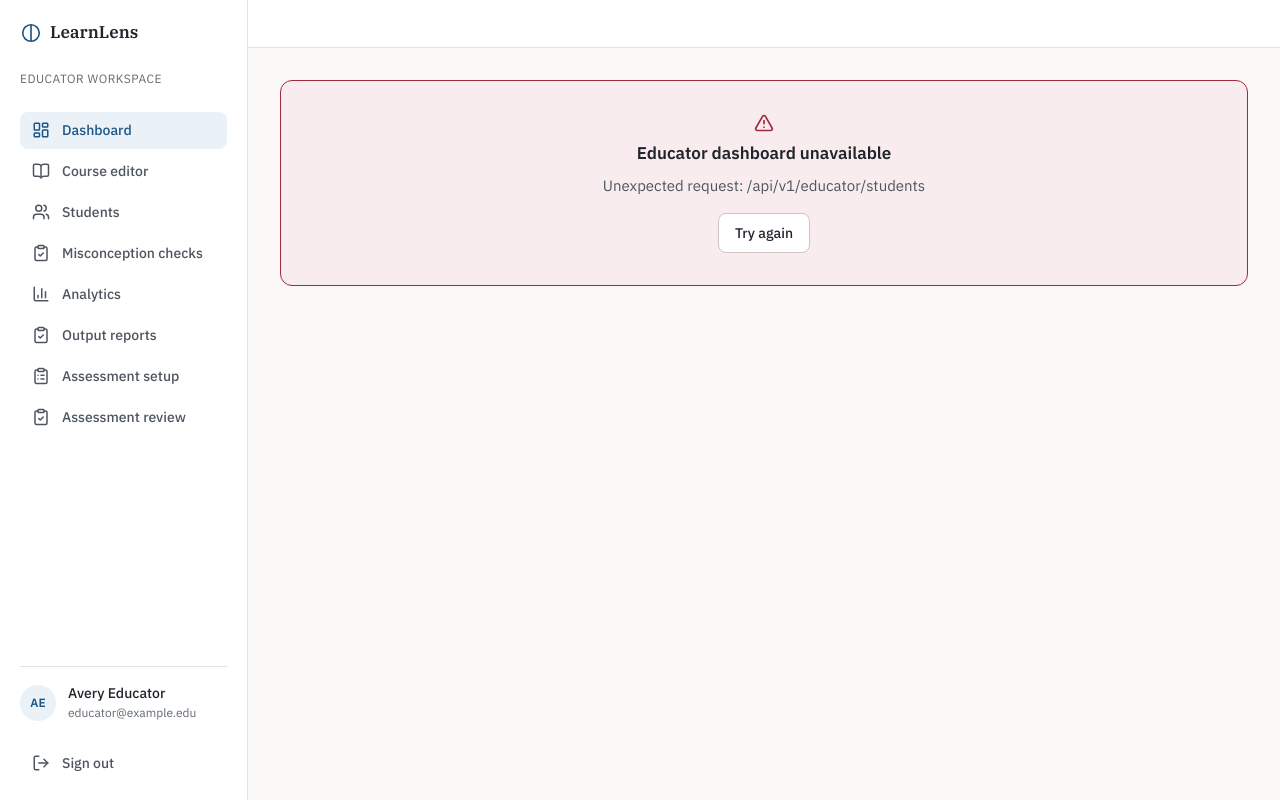
Test: assessment review loads its access check and queue once after navigation
The width and height of the screenshot is (1280, 800).
Click the link "Assessment review".
click(109, 417)  # box x1=32 y1=408 x2=186 y2=426
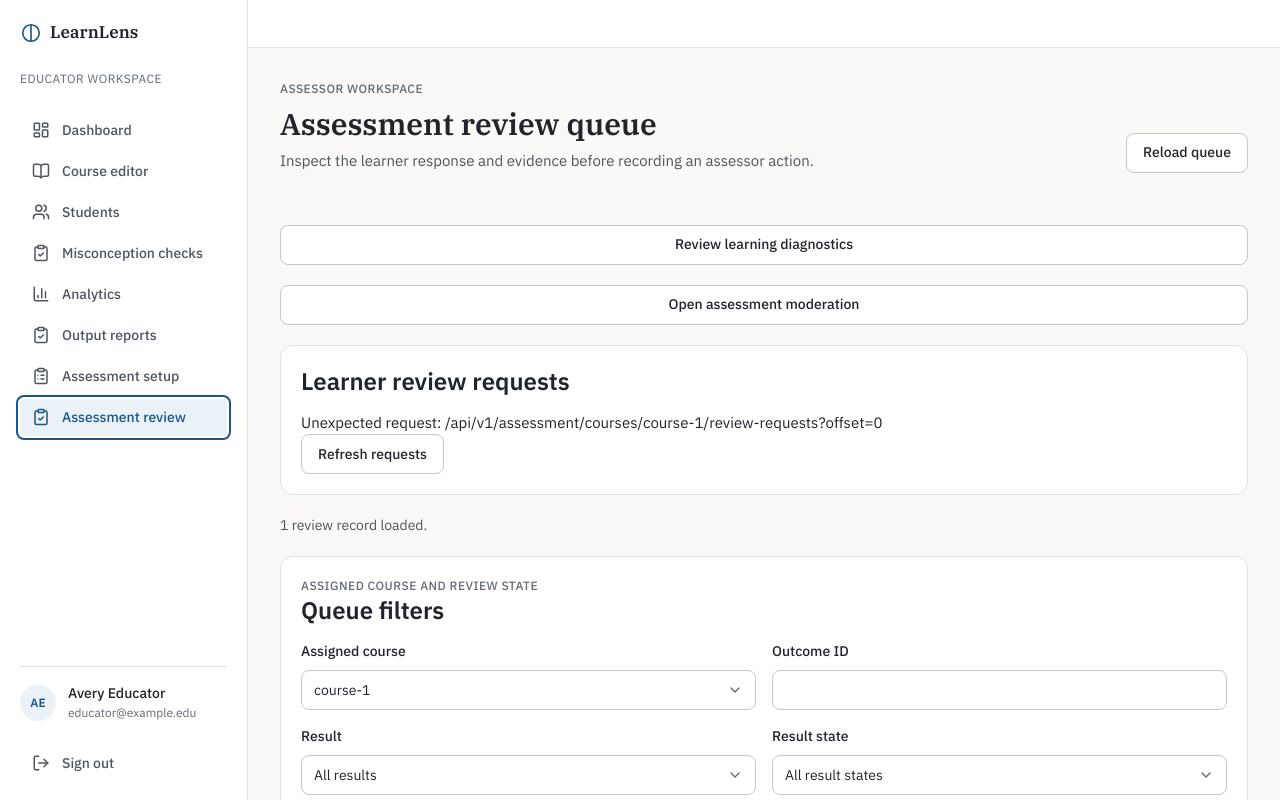
Expected: the heading "Assessment review queue" is shown, x1=280 y1=104 x2=657 y2=143
